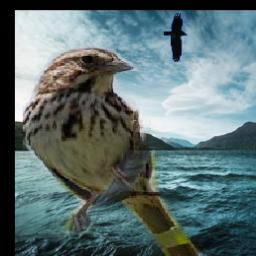Crow: (164, 11, 188, 62)
Sparrow: (22, 46, 205, 256)
